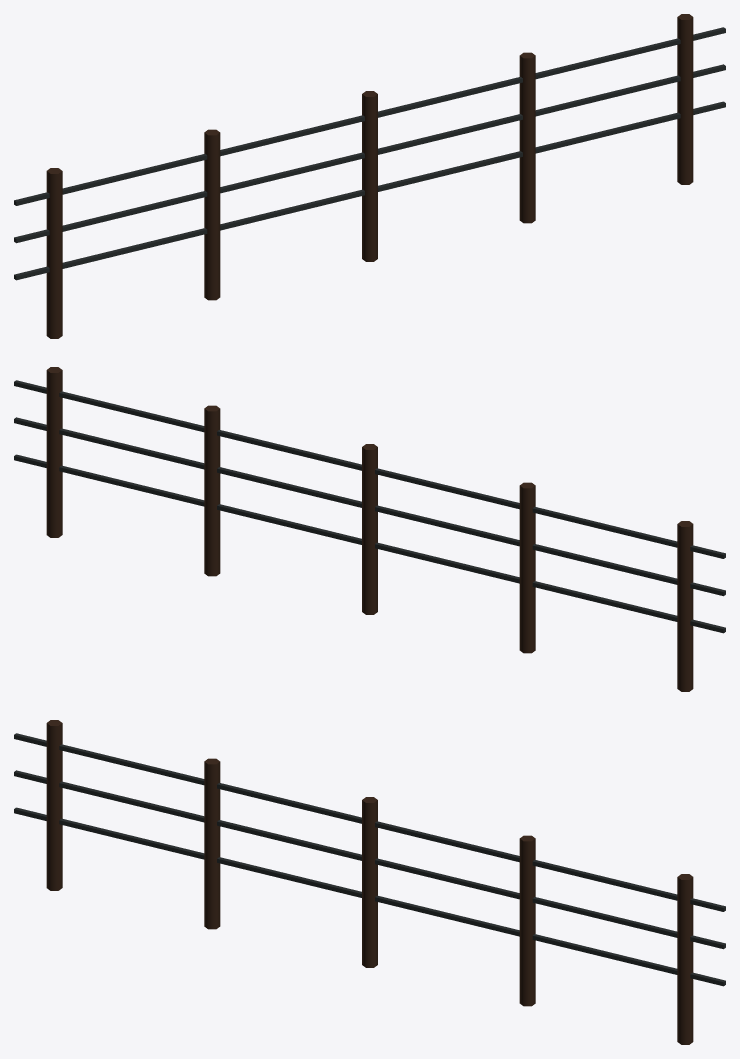
File: barbed-wire-fence.glb
3 views of the same model, one above another, from view 1: azimuth 30°, elevation 25°; view 2: azimuth 150°, elevation 25°; view 3: azimuth 330°, elevation 25° (orthographic).
Parts seen in each view (by area): view 1: wireStrand2, wireStrand3, wireStrand1, post2, post5, post1, post4, post3; view 2: wireStrand2, wireStrand3, wireStrand1, post2, post5, post1, post4, post3; view 3: wireStrand2, wireStrand3, wireStrand1, post4, post1, post5, post2, post3.
Part boxes in pixels (x1,y1,x2,y2): wireStrand2: [14, 64, 725, 243]; wireStrand3: [14, 27, 725, 205]; wireStrand1: [14, 101, 725, 280]; post2: [204, 129, 220, 300]; post5: [677, 14, 693, 184]; post1: [46, 168, 62, 338]; post4: [519, 52, 535, 223]; post3: [362, 91, 377, 261]; wireStrand2: [14, 417, 725, 596]; wireStrand3: [14, 380, 725, 558]; wireStrand1: [14, 454, 725, 633]; post2: [519, 482, 535, 653]; post5: [46, 367, 62, 537]; post1: [677, 521, 693, 691]; post4: [204, 405, 220, 576]; post3: [362, 444, 377, 614]; wireStrand2: [14, 770, 725, 949]; wireStrand3: [14, 733, 725, 911]; wireStrand1: [14, 807, 725, 986]; post4: [519, 835, 535, 1006]; post1: [46, 720, 62, 890]; post5: [677, 874, 693, 1044]; post2: [204, 758, 220, 929]; post3: [362, 797, 377, 967].
Bounding box in the file's own units: 3.6 × 0.8 × 0.07.
